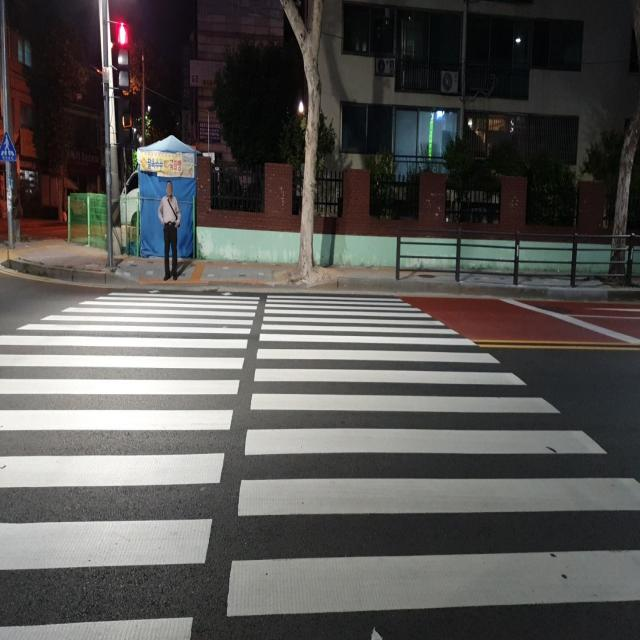빨간불: (115, 18, 132, 91)
횡단보도: (0, 286, 640, 640)
